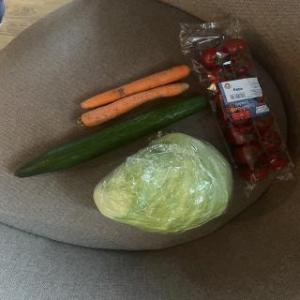cabbage: (82, 126, 238, 246)
carrot: (74, 78, 208, 132), (76, 60, 200, 112)
cucumber: (11, 92, 219, 182)
tomato: (221, 32, 255, 59), (200, 44, 228, 70)
